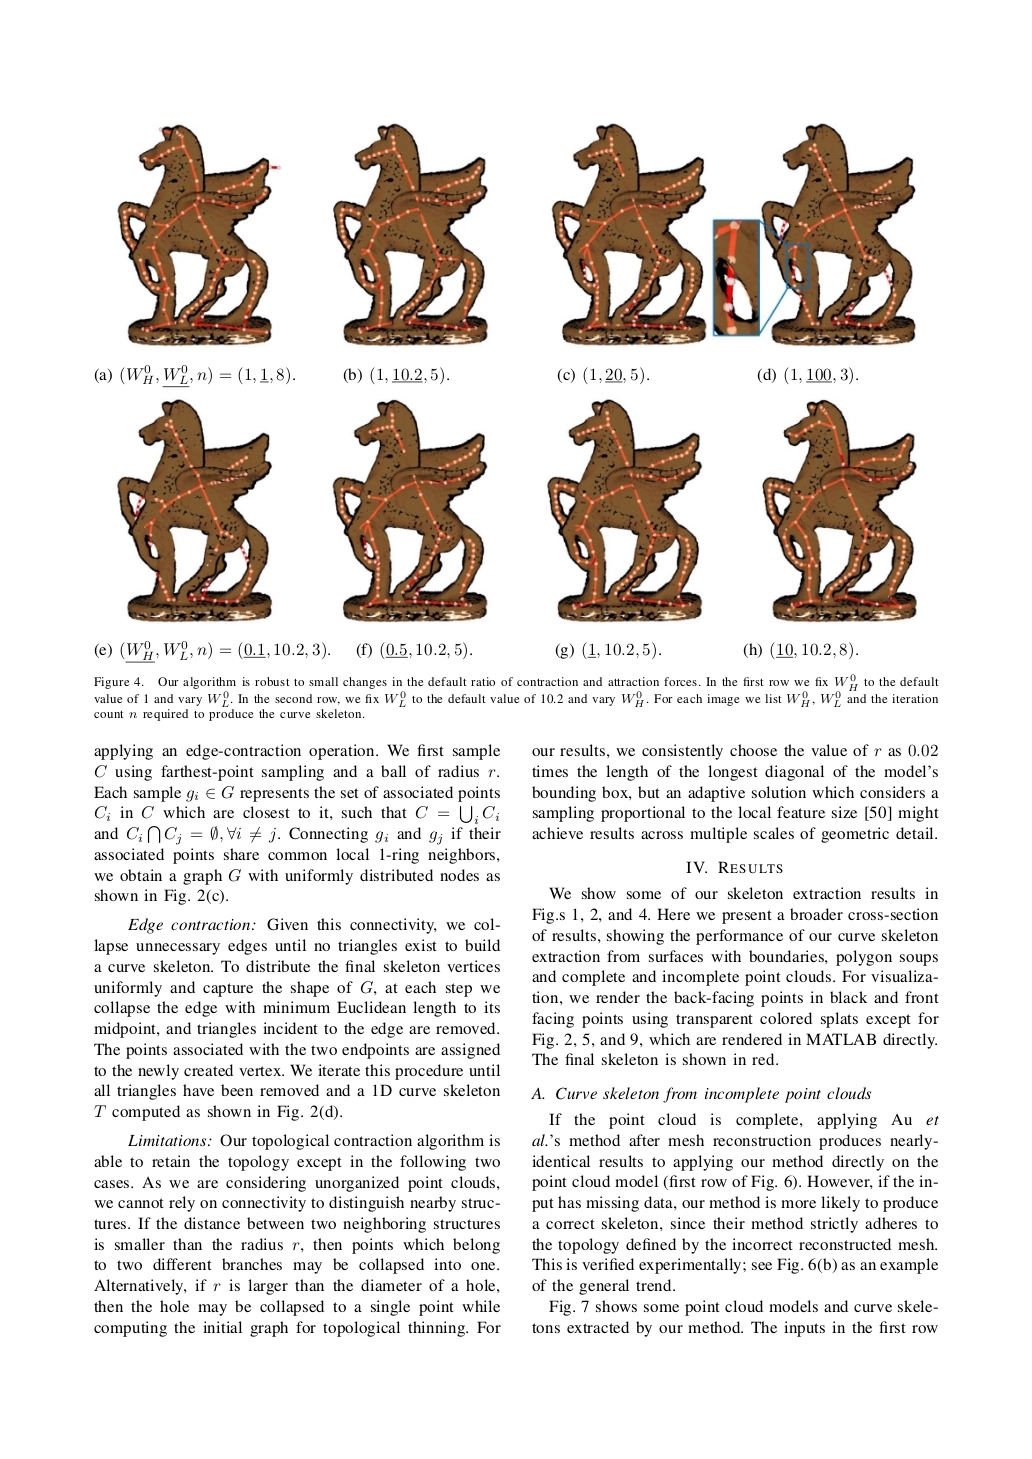figure: (711, 123, 915, 346), (117, 124, 280, 345), (117, 399, 273, 622), (332, 399, 487, 622), (547, 399, 703, 622), (551, 123, 706, 345), (762, 399, 916, 622), (333, 123, 487, 345)
